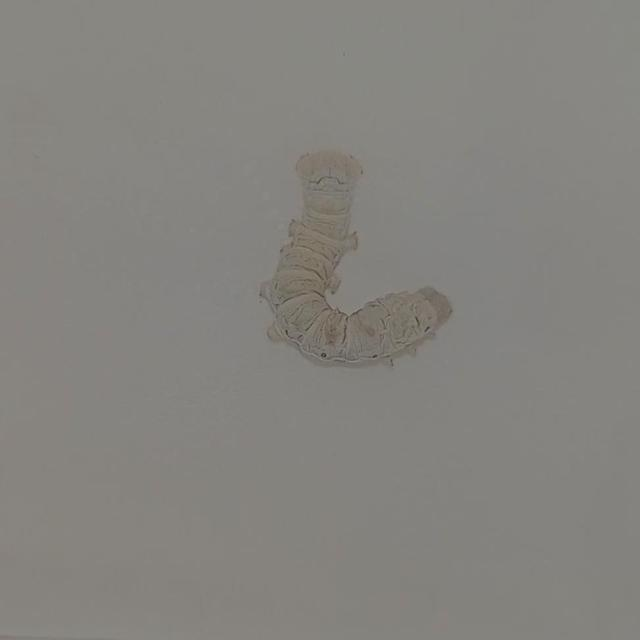Healthy: (242, 121, 476, 401)
